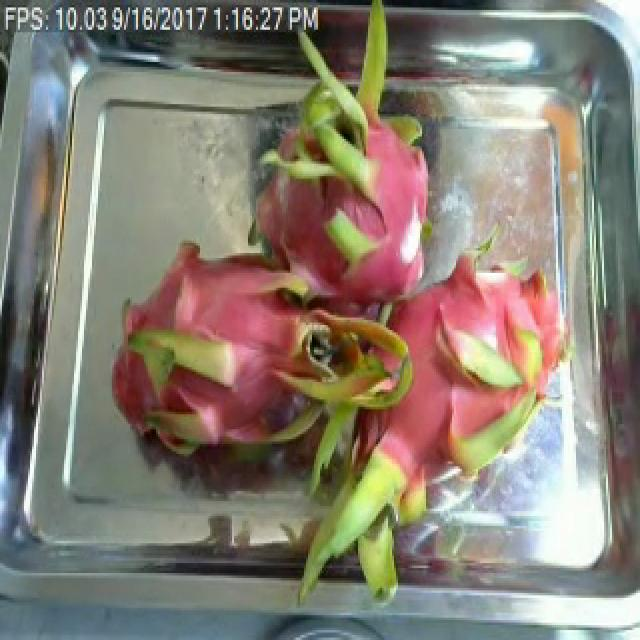Fruit: (238, 144, 394, 340)
